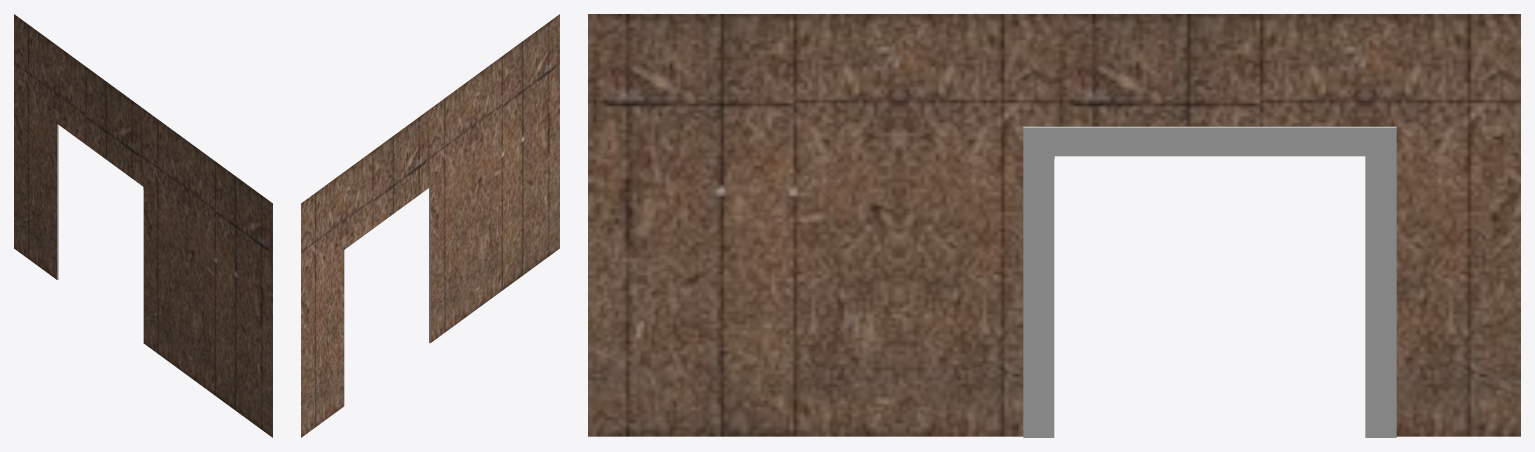
File: interior_wall_1_doorway_3.fbx
3 views of the same model, side by side, from view 1: azimuth 30°, elevation 25°; view 2: azimuth 150°, elevation 25°; view 3: azimuth 270°, elevation 25° (orthographic). The views are drawn at different scales.
Visible parts, largest first — view 1: interior_wall_1_doorway_3-col, interior_wall_1_doorway_3; view 2: interior_wall_1_doorway_3, interior_wall_1_doorway_3-col; view 3: interior_wall_1_doorway_3, interior_wall_1_doorway_3-col.
Part boxes in pixels (x1,y1,x2,y2): interior_wall_1_doorway_3-col: (14, 15, 272, 437); interior_wall_1_doorway_3: (14, 14, 272, 437); interior_wall_1_doorway_3: (301, 14, 559, 437); interior_wall_1_doorway_3-col: (301, 15, 559, 436); interior_wall_1_doorway_3: (588, 14, 1520, 437); interior_wall_1_doorway_3-col: (588, 14, 1520, 436).
Size of the model in its own units: 0.64 by 96 by 192.
